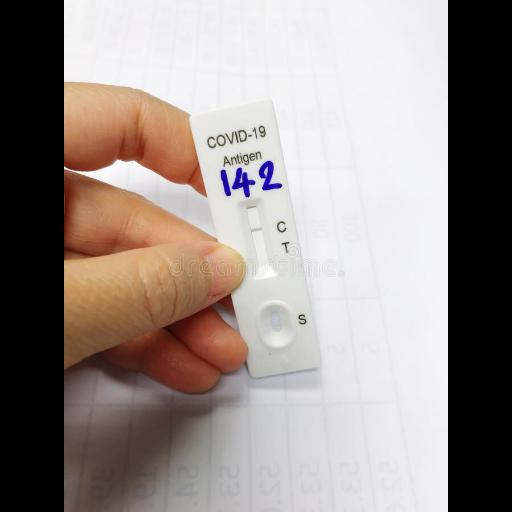Neg: (189, 97, 324, 383)
